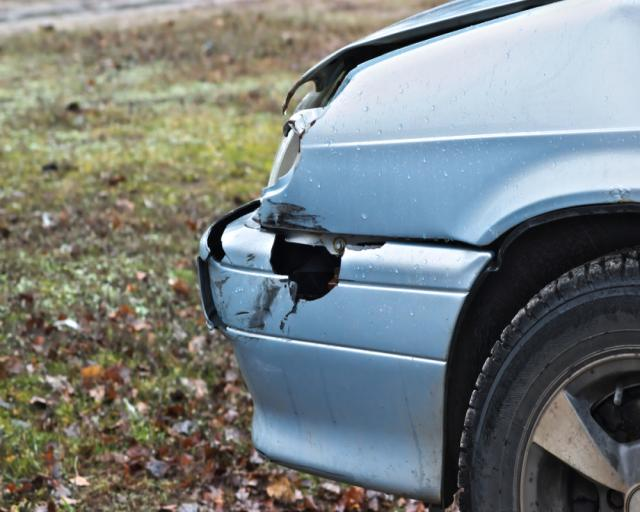crack: (199, 198, 264, 332), (269, 231, 345, 318)
scratch: (209, 252, 282, 333), (264, 199, 333, 237)
